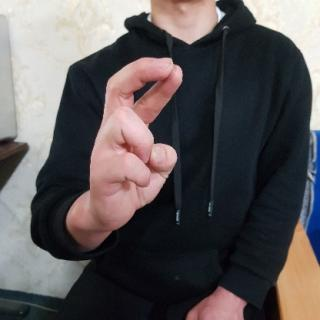ZAY: (84, 53, 188, 236)
